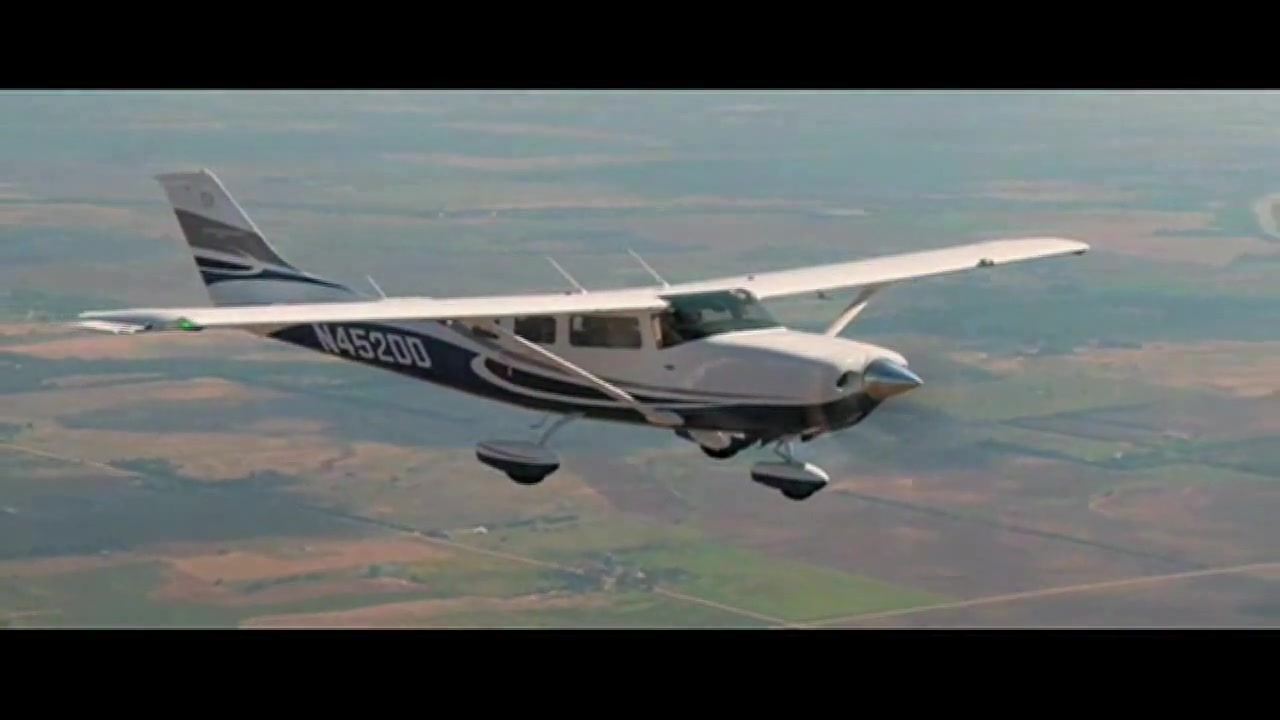aeroplane: (70, 160, 1093, 505)
